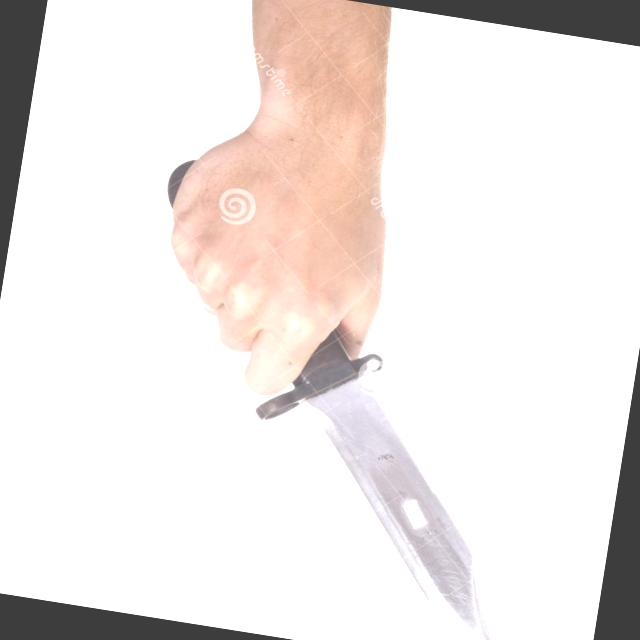knife: (142, 223, 565, 639)
